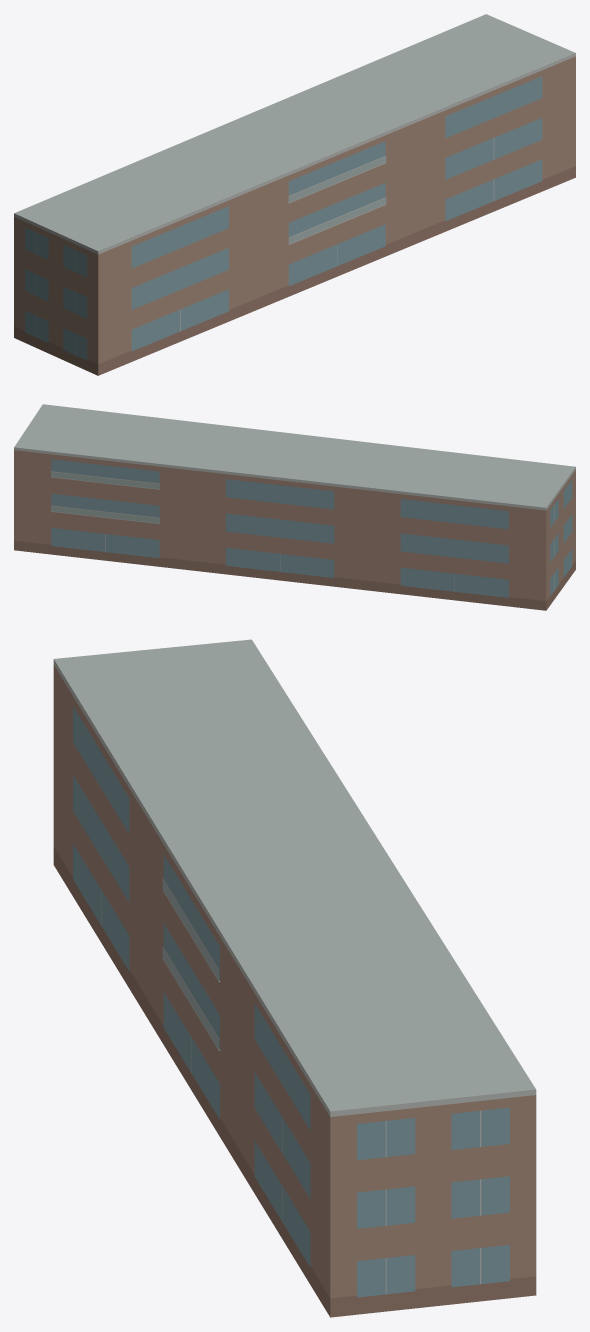
The model's file is survey-upis-33038530.glb.
3 views of the same model, one above another, from view 1: azimuth 30°, elevation 25°; view 2: azimuth 150°, elevation 25°; view 3: azimuth 270°, elevation 25° (orthographic). The views are drawn at different scales.
Visible parts, largest first — view 1: survey-upis-33038530.tmp; view 2: survey-upis-33038530.tmp; view 3: survey-upis-33038530.tmp.
Part boxes in pixels (x1,y1,x2,y2): survey-upis-33038530.tmp: [14, 14, 575, 375]; survey-upis-33038530.tmp: [14, 404, 575, 610]; survey-upis-33038530.tmp: [53, 639, 536, 1317].
Size of the model in its own units: 45.02 by 9.15 by 19.45.
